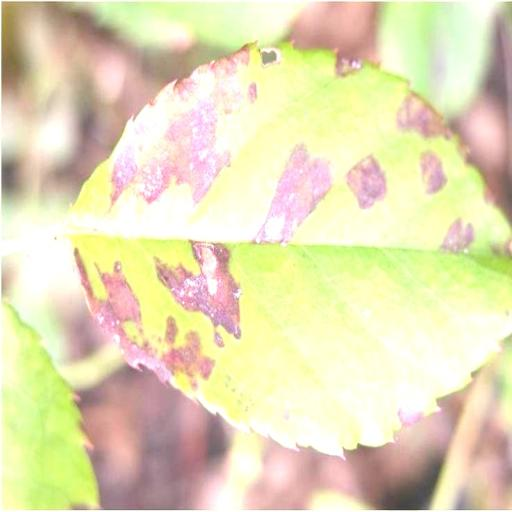downy_mildew: (69, 46, 511, 453)
